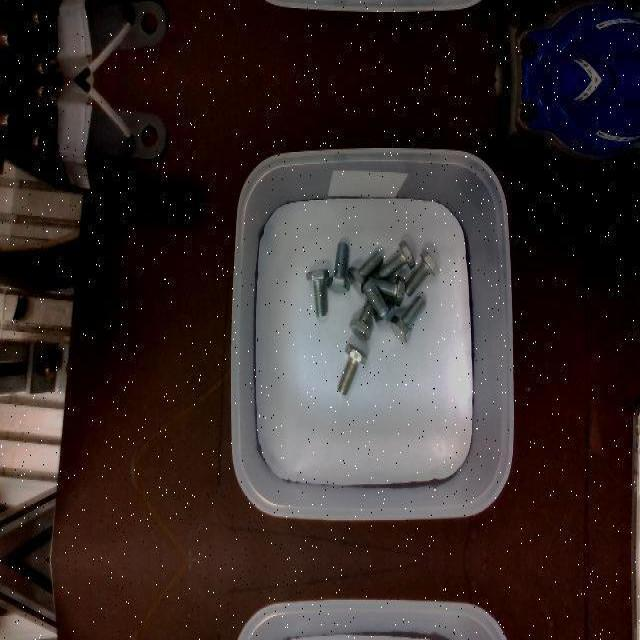screw: (390, 295, 426, 341), (337, 342, 368, 394), (405, 249, 440, 295), (376, 239, 415, 279), (362, 279, 394, 325), (326, 241, 350, 291), (306, 270, 329, 318)
